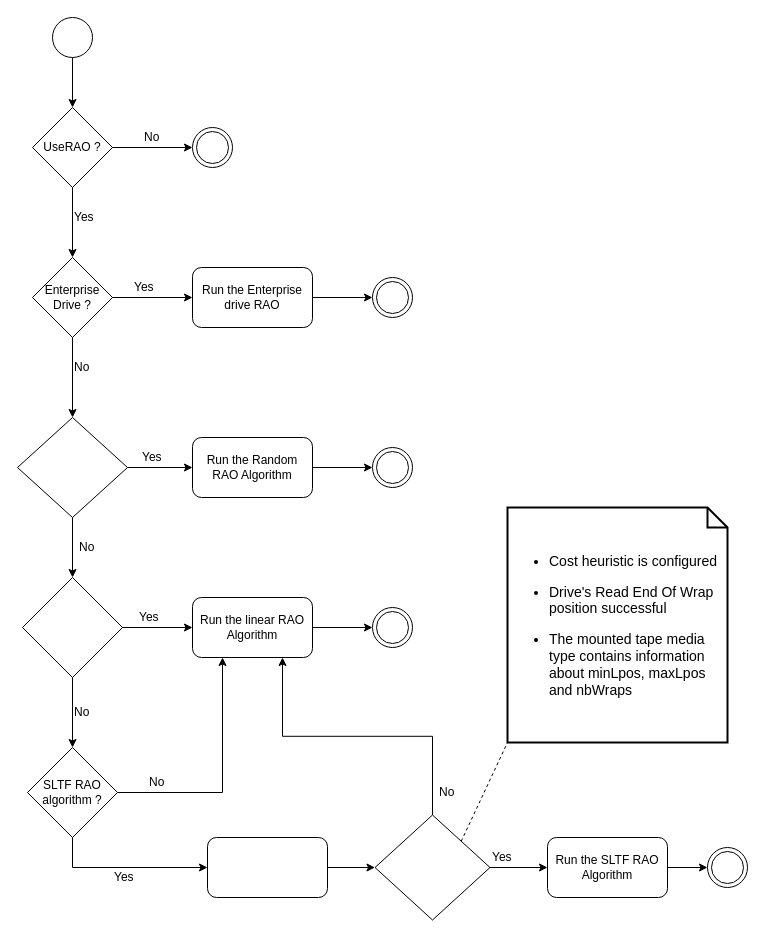
Image size: 765x938. Some labels were removed from this diagram. The centre of each missing label's shape, as x and y in pixels:
"Initialization successful ?" goes at [432,867].
"Initialize SLTF RAO Algorithm" goes at [267,867].
"Linear RAO algoithm ?" goes at [72,627].
"Random RAO algorithm ?" goes at [72,467].
